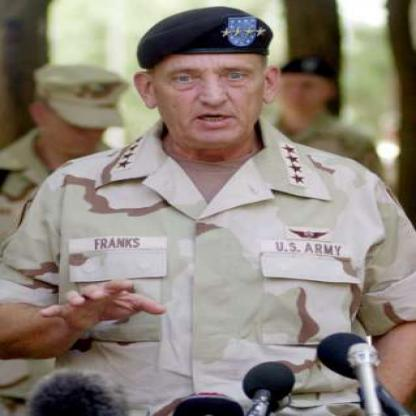face: (155, 12, 270, 148), (46, 81, 119, 157), (281, 60, 330, 114)
